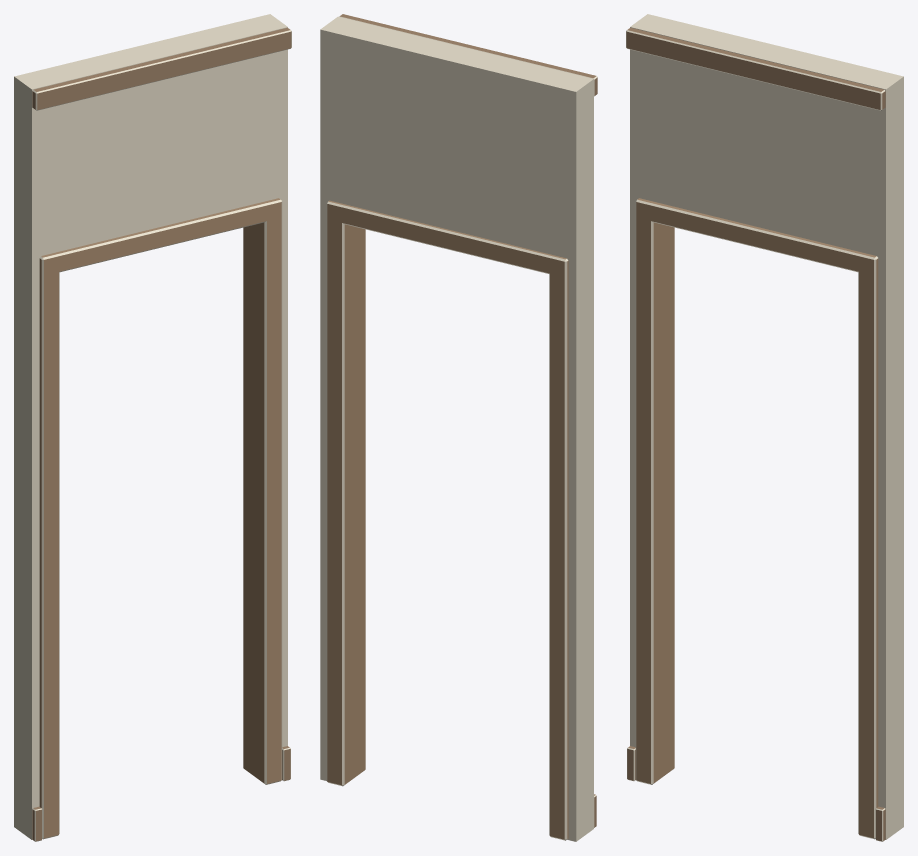
File: muro_puerta_280.glb
3 renders of one model, left to right at view 1: azimuth 30°, elevation 25°; view 2: azimuth 150°, elevation 25°; view 3: azimuth 330°, elevation 25°, orthographic.
Parts seen in each view (by area): view 1: muro_puerta_280; view 2: muro_puerta_280; view 3: muro_puerta_280.
Part boxes in pixels (x1,y1,x2,y2): muro_puerta_280: (14, 14, 291, 841); muro_puerta_280: (320, 14, 597, 841); muro_puerta_280: (626, 14, 903, 841).
Size of the model in its own units: 1 by 2.8 by 0.165.
